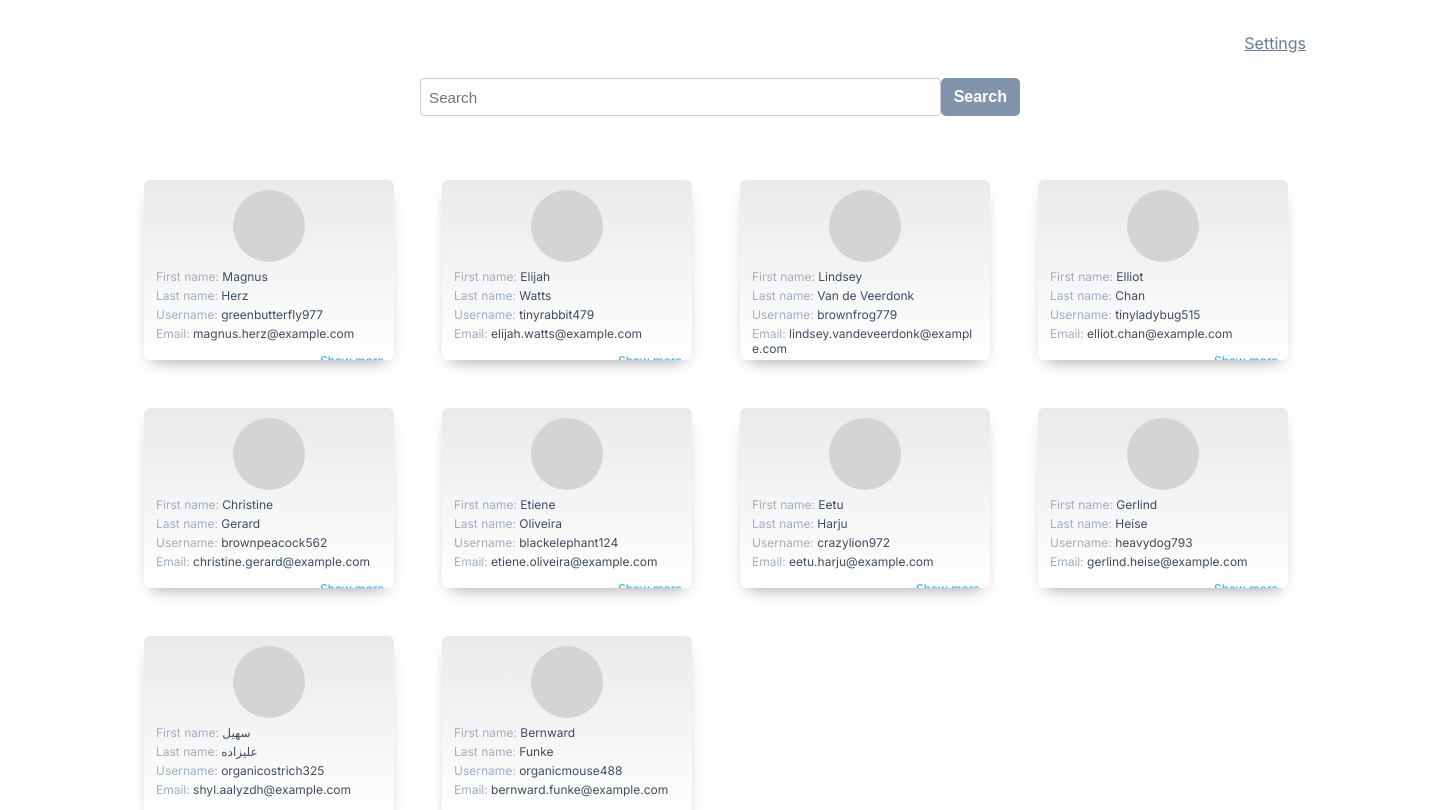
<Home /> › searches users based on first name + last name
Type "Lind" into the field with id "search" at (680, 97), box [420,78,941,116]
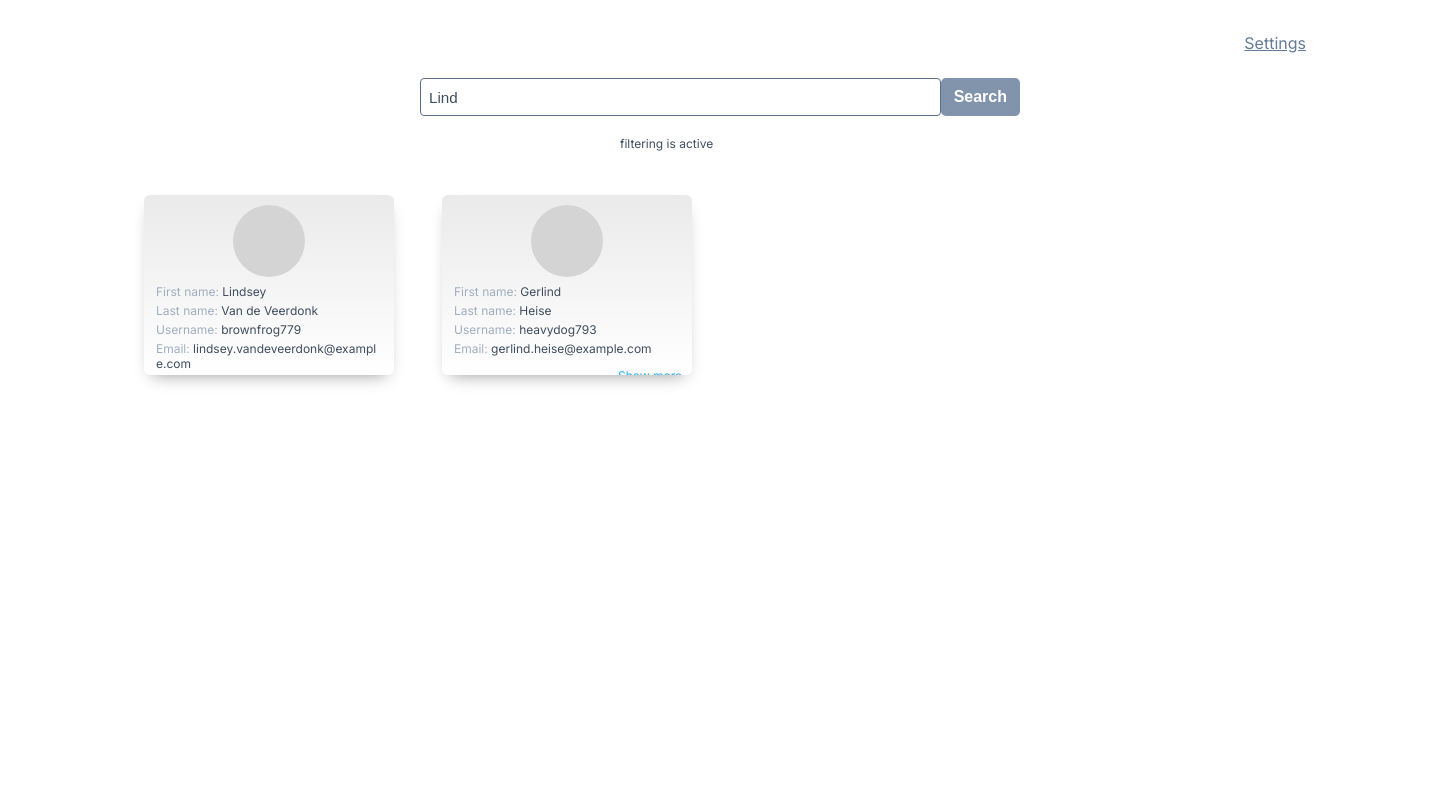
Check: the number of elements with class "UserCard" is 2, box [144,195,394,375]; [442,195,692,375]
Type "yyyyyyy" into the field with id "search" at (680, 97), box [420,78,941,116]
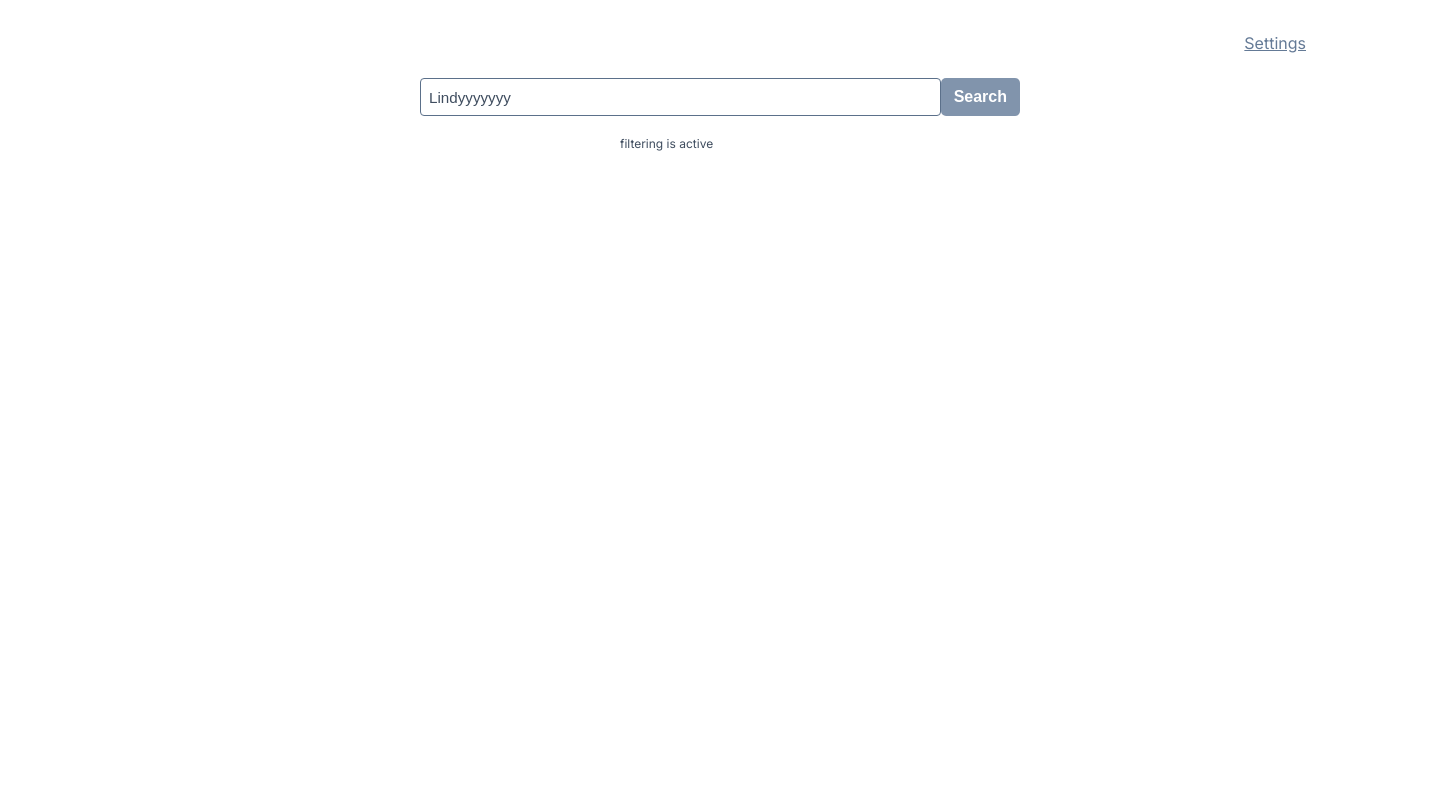
Check: no elements with class "UserCard" are shown
